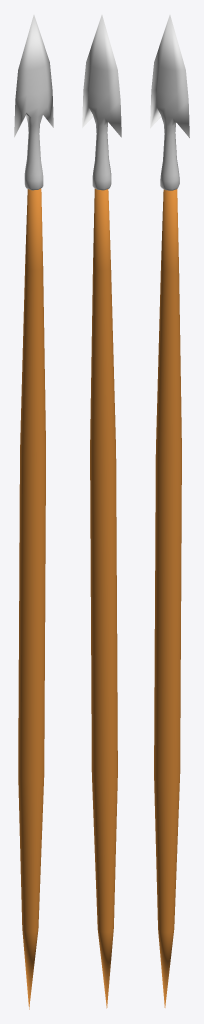
The model's file is arpon.fbx.
3 views of the same model, side by side, from view 1: azimuth 30°, elevation 25°; view 2: azimuth 150°, elevation 25°; view 3: azimuth 330°, elevation 25° (orthographic).
Visible parts, largest first — view 1: Harpoon; view 2: Harpoon; view 3: Harpoon.
Part boxes in pixels (x1,y1,x2,y2): Harpoon: [14, 15, 53, 1009]; Harpoon: [82, 15, 121, 1008]; Harpoon: [150, 15, 189, 1007].
Bounding box in the file's own units: 153 × 3668 × 87.47.
